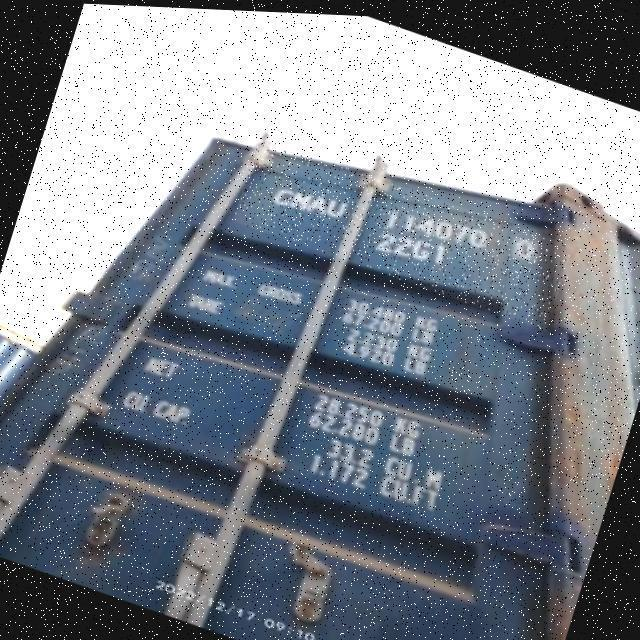container_number_h: (232, 133, 572, 326)
